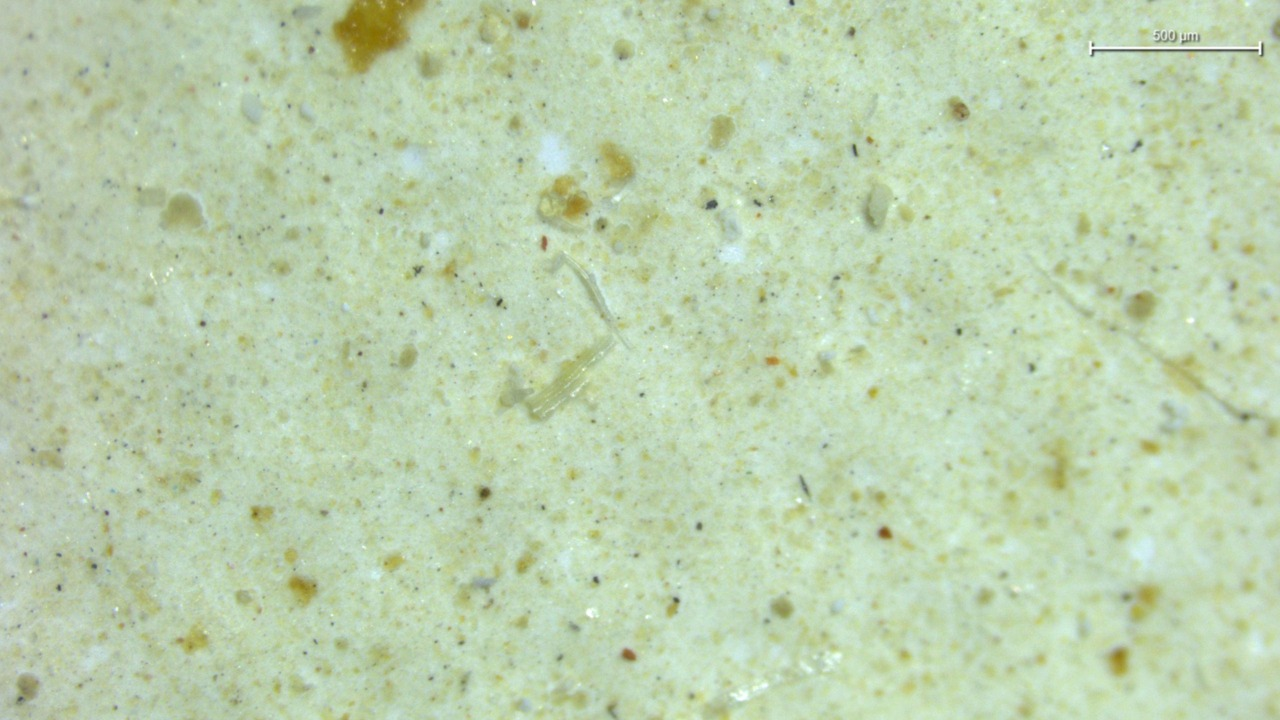microplastic_fragment: (866, 184, 895, 228), (241, 94, 262, 123)
